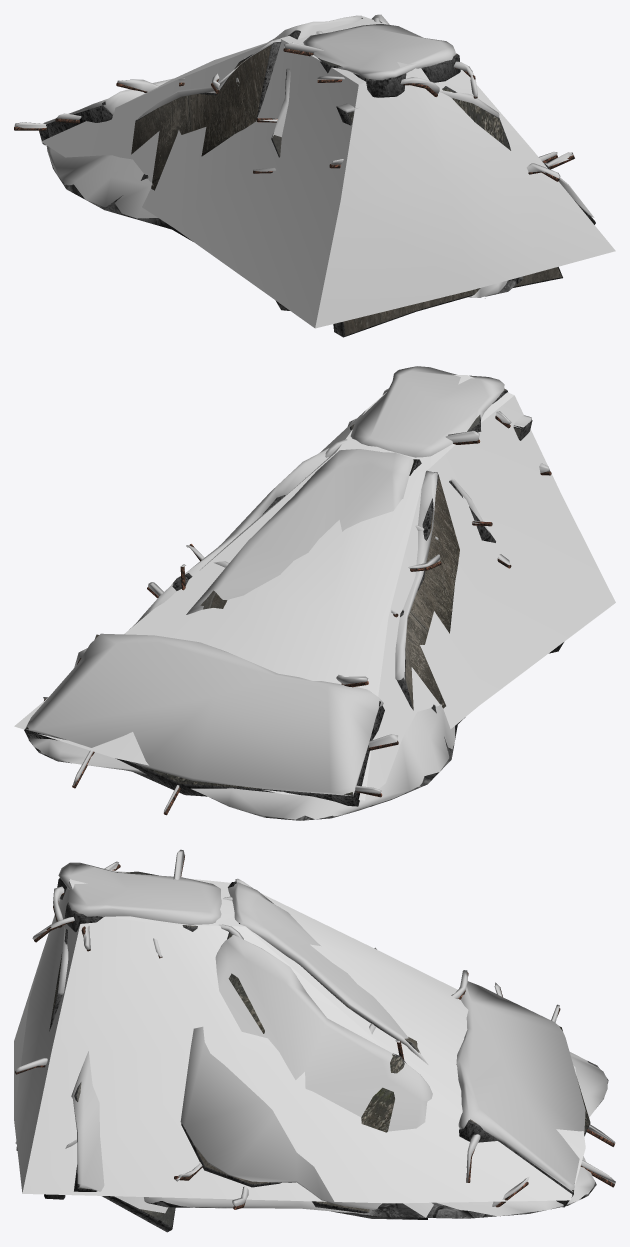
File: Ramp.fbx
3 views of the same model, one above another, from view 1: azimuth 30°, elevation 25°; view 2: azimuth 150°, elevation 25°; view 3: azimuth 270°, elevation 25° (orthographic). The views are drawn at different scales.
Visible parts, largest first — view 1: ramp_col, snow, ramp; view 2: snow, ramp_col, ramp; view 3: ramp_col, snow, ramp.
Part boxes in pixels (x1,y1,x2,y2): ramp_col: (41, 16, 615, 328); snow: (14, 14, 594, 298); ramp: (14, 18, 595, 337); snow: (25, 366, 549, 819); ramp_col: (14, 374, 615, 800); ramp: (24, 388, 563, 820); ramp_col: (14, 870, 585, 1203); snow: (15, 849, 615, 1217); ramp: (15, 855, 614, 1232).
Bounding box in the file's own units: 235 × 149 × 309.
